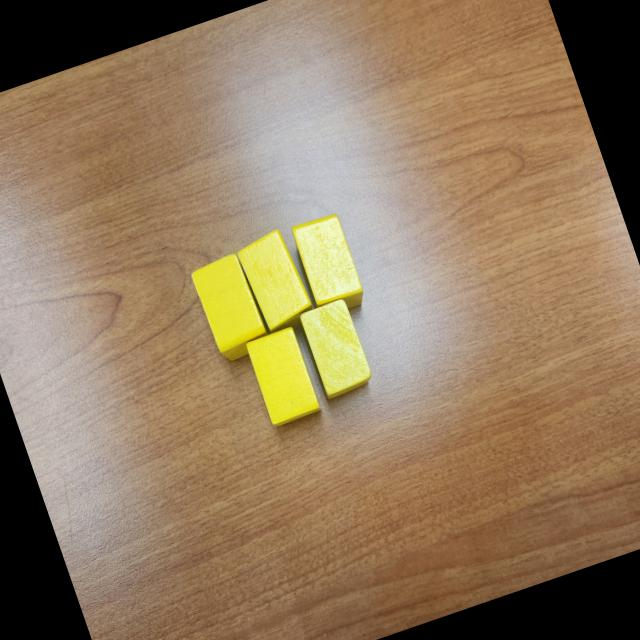yellow: (232, 225, 318, 338), (188, 250, 272, 364), (288, 210, 369, 319), (296, 295, 375, 399), (243, 324, 321, 426)
